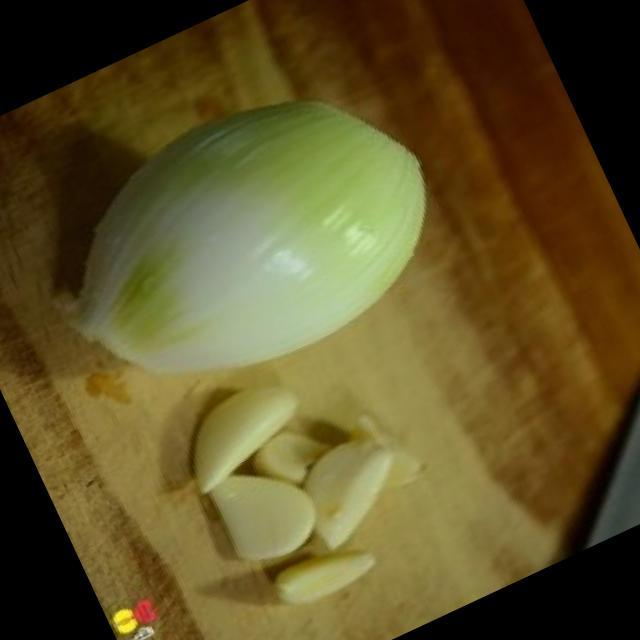Onion: (75, 104, 421, 375)
